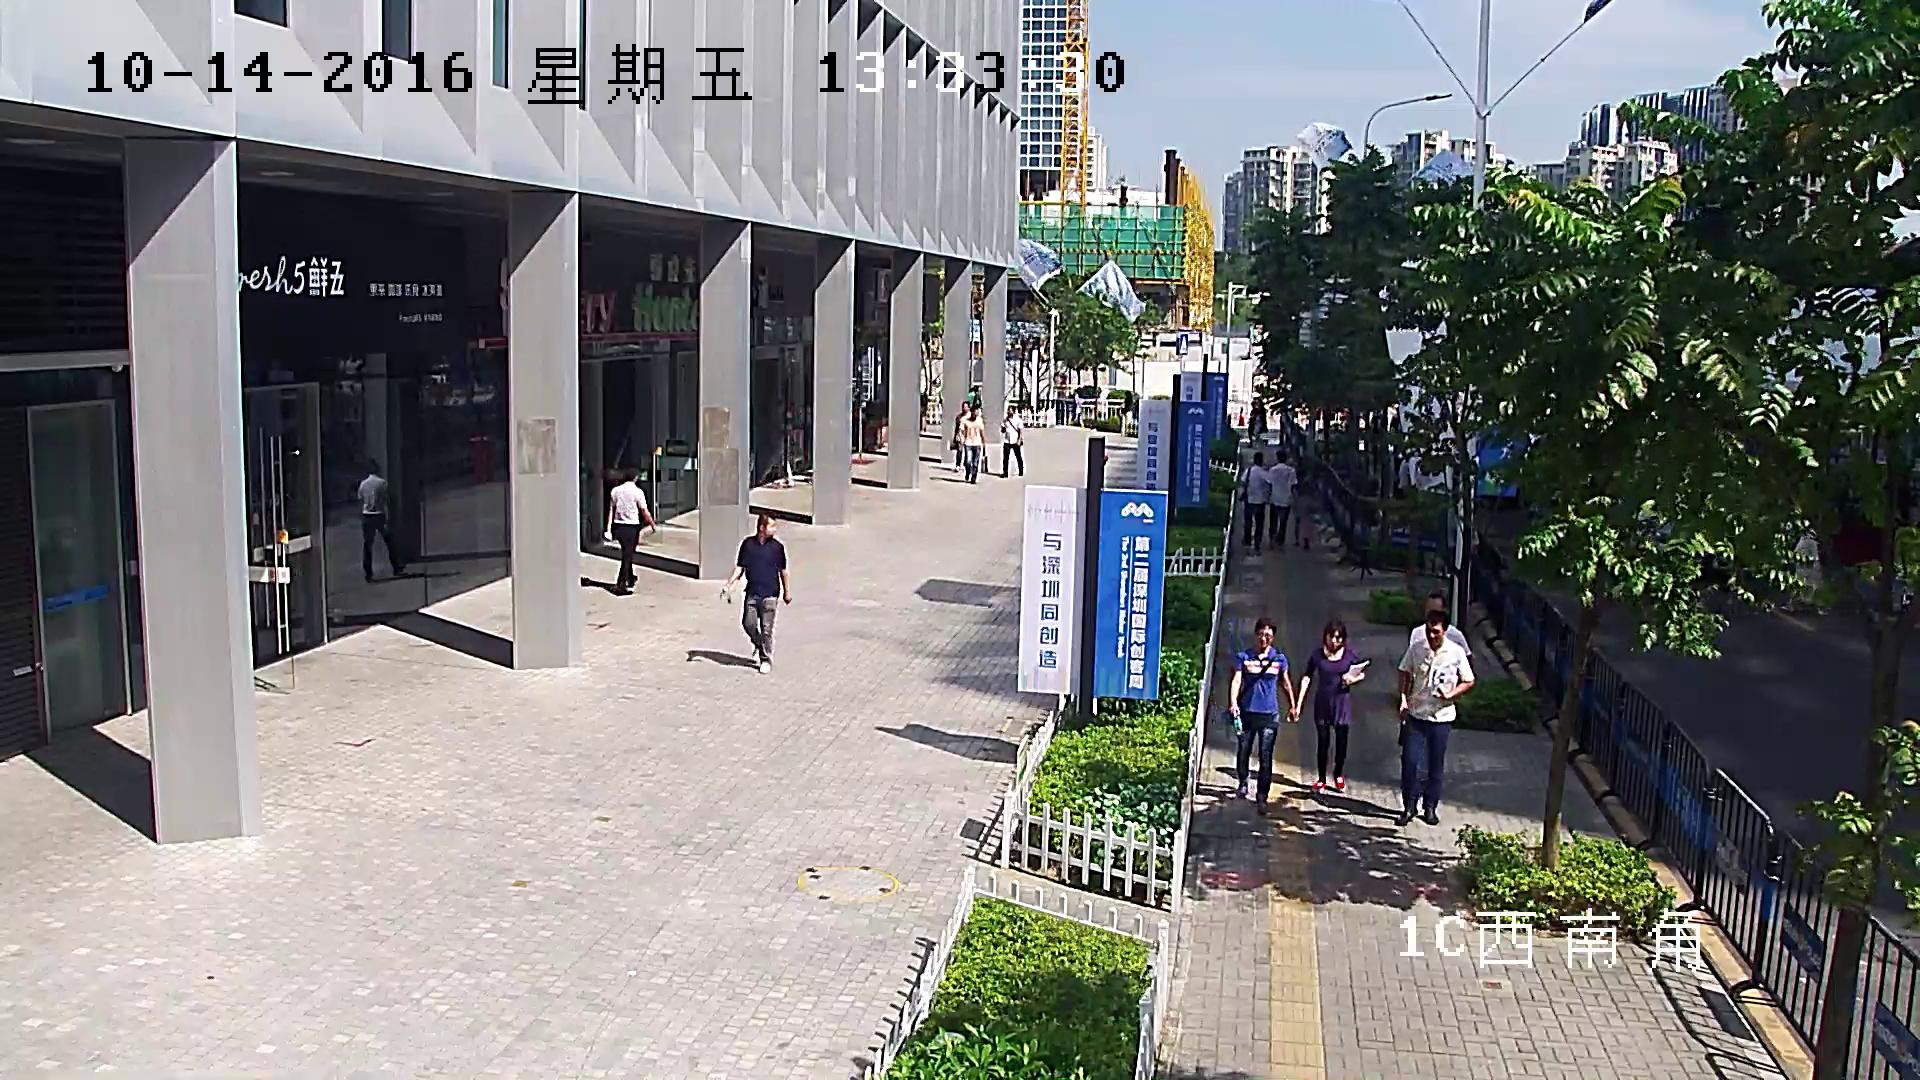person: (1394, 609, 1474, 825), (1295, 620, 1372, 791), (1229, 618, 1295, 814), (1398, 592, 1472, 757), (719, 510, 791, 673), (603, 466, 655, 594), (356, 456, 406, 583), (1239, 451, 1283, 557), (1266, 450, 1298, 549), (1291, 457, 1314, 551), (961, 403, 987, 484), (999, 405, 1023, 477), (953, 400, 971, 471), (1255, 402, 1267, 444), (1071, 390, 1084, 427), (1121, 390, 1132, 435), (1247, 402, 1257, 447)
